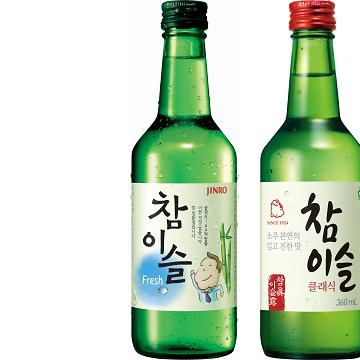soju: (129, 1, 360, 358)
